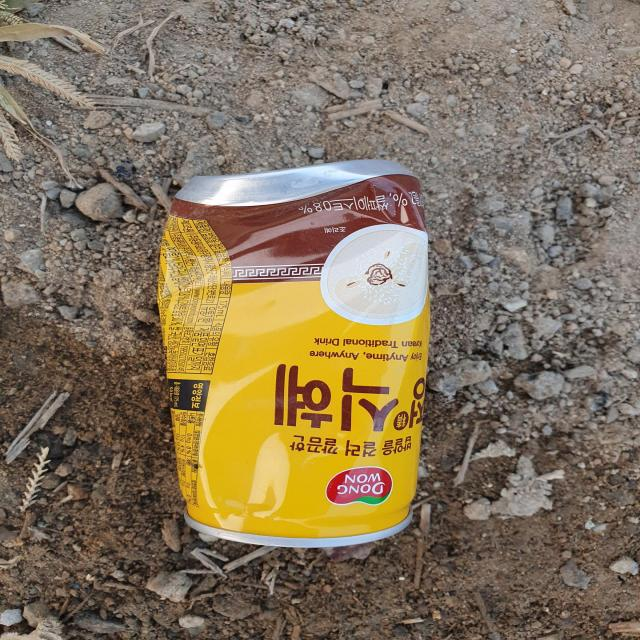can: (157, 159, 430, 548)
